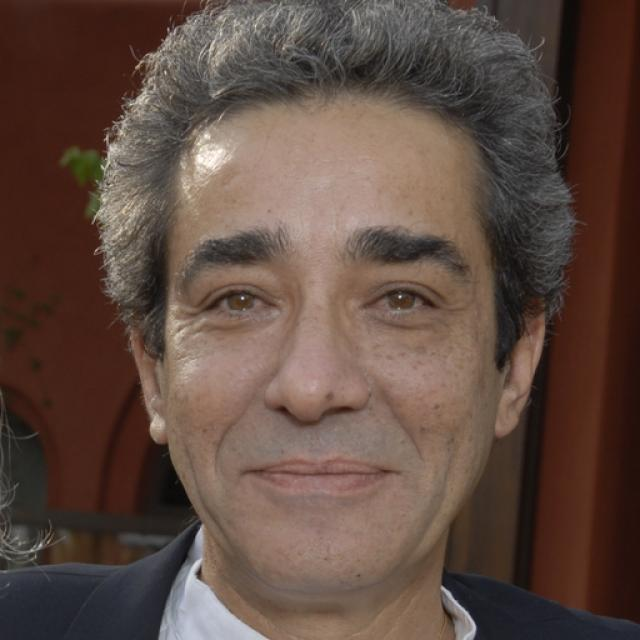Pigmentation: (365, 314, 495, 442)
